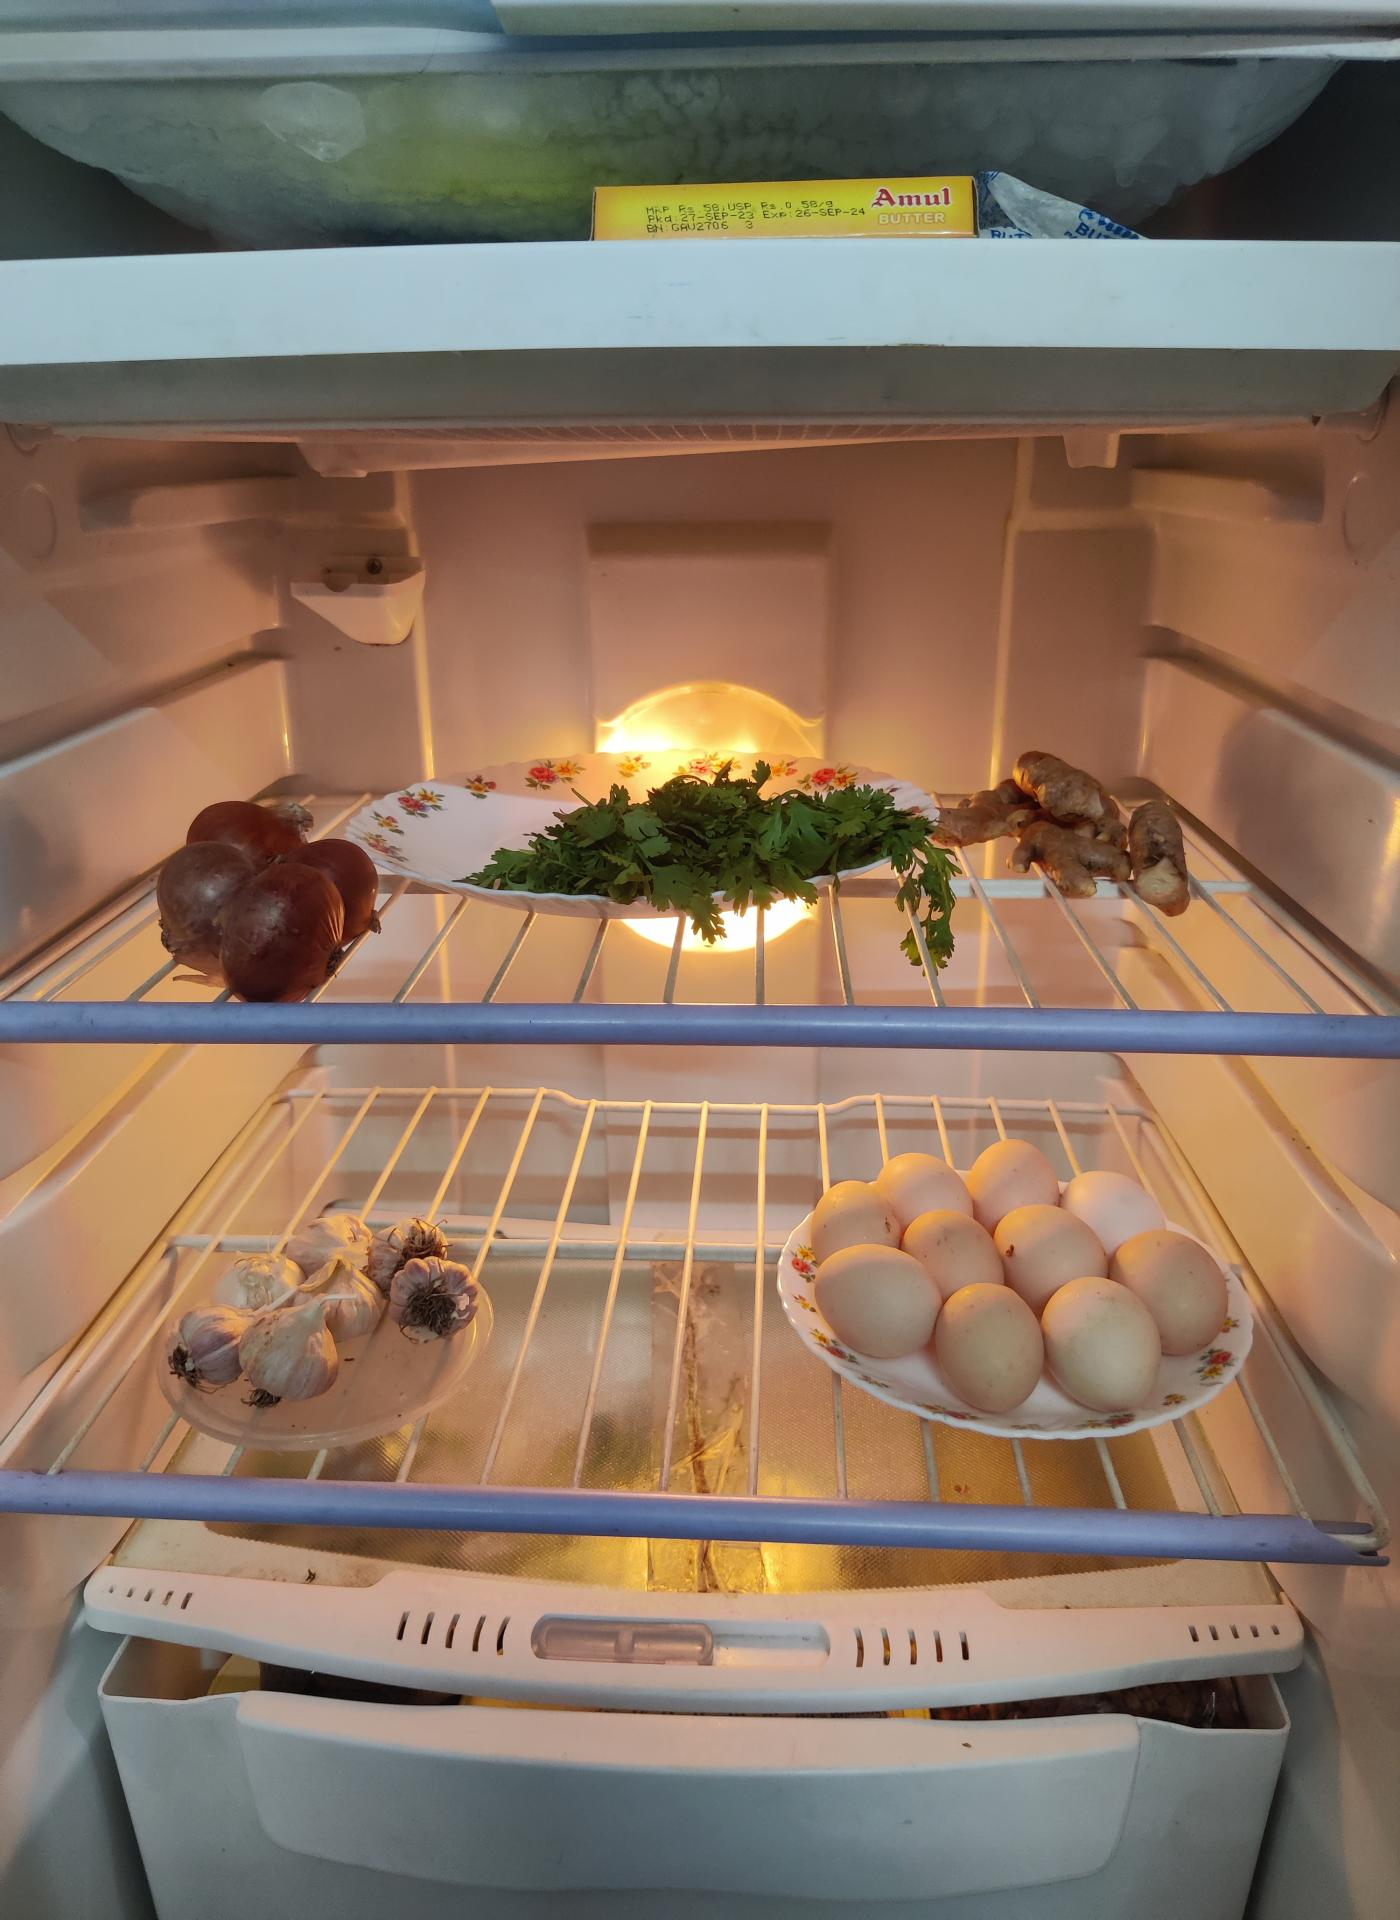coriander: (505, 765, 930, 938)
egg: (793, 1130, 1221, 1415)
garlic: (174, 1215, 505, 1413)
ginger: (953, 745, 1218, 917)
onion: (158, 798, 380, 996)
